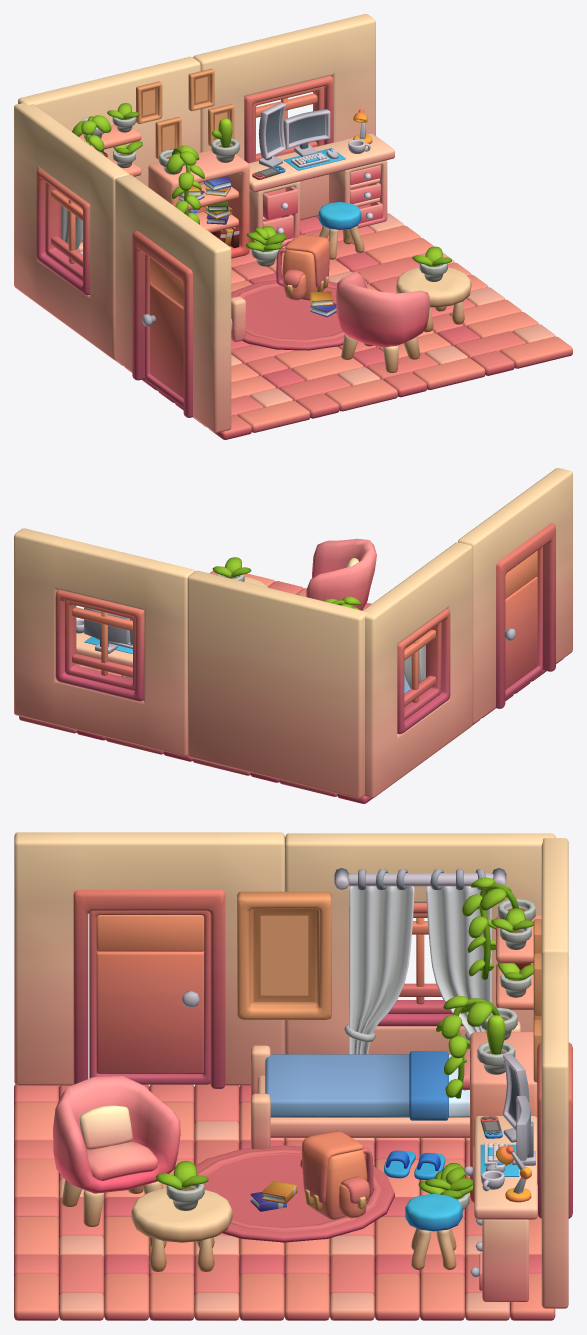
Rendered from room_level_1.glb.
The picture shows the model from 3 angles, top to bottom: view 1: azimuth 30°, elevation 25°; view 2: azimuth 150°, elevation 25°; view 3: azimuth 270°, elevation 25°; orthographic projection. The views are drawn at different scales.
Parts seen in each view (by area): view 1: floor.001, wall_door.001, wall_window.001, wall_window.002, wall.001, chair.001, desk.001, rug.001, door.001, window.001, cabinet_01.001, window.002 (+18 smaller); view 2: wall.001, wall_window.002, wall_window.001, wall_door.001, window.002, door.001, window.001, chair.001, floor.001, computer_monitor_01, desk.001, plants_01.001 (+1 smaller); view 3: floor.001, wall_door.001, door.001, wall_window.001, bed.001, curtain.001, chair.001, frame.001, wall_window.002, rug.001, desk.001, bag (+19 smaller).
Part boxes in pixels (x1,y1,x2,y2): floor.001: (114,213,572,439); wall_door.001: (115,175,231,432); wall_window.001: (14,103,129,359); wall_window.002: (193,14,375,220); wall.001: (18,56,200,242); chair.001: (335,271,430,372); desk.001: (249,133,394,246); rug.001: (231,279,344,350); door.001: (142,254,183,407); window.001: (36,168,89,295); cabinet_01.001: (148,150,249,258); window.002: (244,76,333,163); wall.001: (187,570,367,798); wall_window.002: (14,528,194,756); wall_window.001: (363,542,472,797); wall_door.001: (458,468,572,723); window.002: (55,589,144,701); door.001: (505,546,542,698); window.001: (397,608,450,734); chair.001: (306,538,376,610); floor.001: (19,571,562,803); computer_monitor_01: (84,607,130,653); desk.001: (76,632,132,678); plants_01.001: (212,557,251,581); floor.001: (14,1084,555,1320); wall_door.001: (14,832,284,1088); door.001: (89,910,210,1084); wall_window.001: (285,833,555,1054); bed.001: (251,1021,520,1149); curtain.001: (334,868,506,1054); chair.001: (53,1076,180,1226); frame.001: (237,891,331,1019); wall_window.002: (541,952,568,1308); rug.001: (195,1145,394,1242); desk.001: (474,1116,537,1301); bag: (300,1131,373,1219).
Bounding box in the file's own units: 4.16 × 2.1 × 4.13.
Materials: 1 (1 with a texture image).
